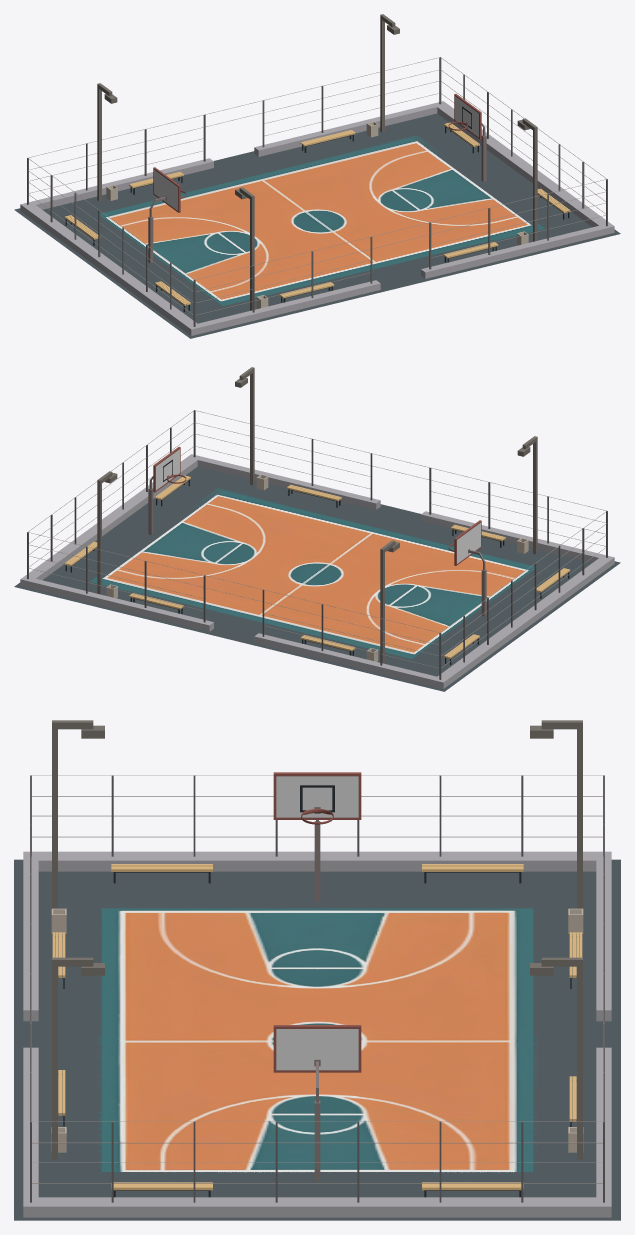
Rendered from basketball_court.glb.
3 renders of one model, top to bottom at view 1: azimuth 30°, elevation 25°; view 2: azimuth 150°, elevation 25°; view 3: azimuth 270°, elevation 25°, orthographic. The views are drawn at different scales.
Parts seen in each view (by area): view 1: Court_2, Base_1, Mesh_Bars_7, Light Pillars_3, Benches_4, Basketball_Stand_6, Dust_Bin_5; view 2: Court_2, Base_1, Mesh_Bars_7, Light Pillars_3, Benches_4, Basketball_Stand_6, Dust_Bin_5; view 3: Court_2, Base_1, Basketball_Stand_6, Light Pillars_3, Mesh_Bars_7, Benches_4, Dust_Bin_5.
Boxes of the visible parts, <box> form: Court_2: <box>92,135,544,305</box>; Base_1: <box>14,57,620,338</box>; Mesh_Bars_7: <box>28,57,606,315</box>; Light Pillars_3: <box>97,14,537,310</box>; Benches_4: <box>64,122,570,311</box>; Basketball_Stand_6: <box>148,94,486,263</box>; Dust_Bin_5: <box>106,121,528,308</box>; Court_2: <box>90,488,536,658</box>; Base_1: <box>14,410,620,691</box>; Mesh_Bars_7: <box>28,410,606,668</box>; Light Pillars_3: <box>97,367,537,663</box>; Benches_4: <box>64,475,570,664</box>; Basketball_Stand_6: <box>148,447,486,616</box>; Dust_Bin_5: <box>106,474,528,661</box>; Court_2: <box>97,905,537,1177</box>; Base_1: <box>14,775,620,1220</box>; Basketball_Stand_6: <box>273,772,361,1181</box>; Light Pillars_3: <box>52,720,582,1159</box>; Mesh_Bars_7: <box>30,775,604,1183</box>; Benches_4: <box>52,864,582,1197</box>; Dust_Bin_5: <box>51,908,583,1152</box>.
Bounding box in the file's own units: 5.79 × 1.51 × 4.11.
12 materials, 1 textured.
